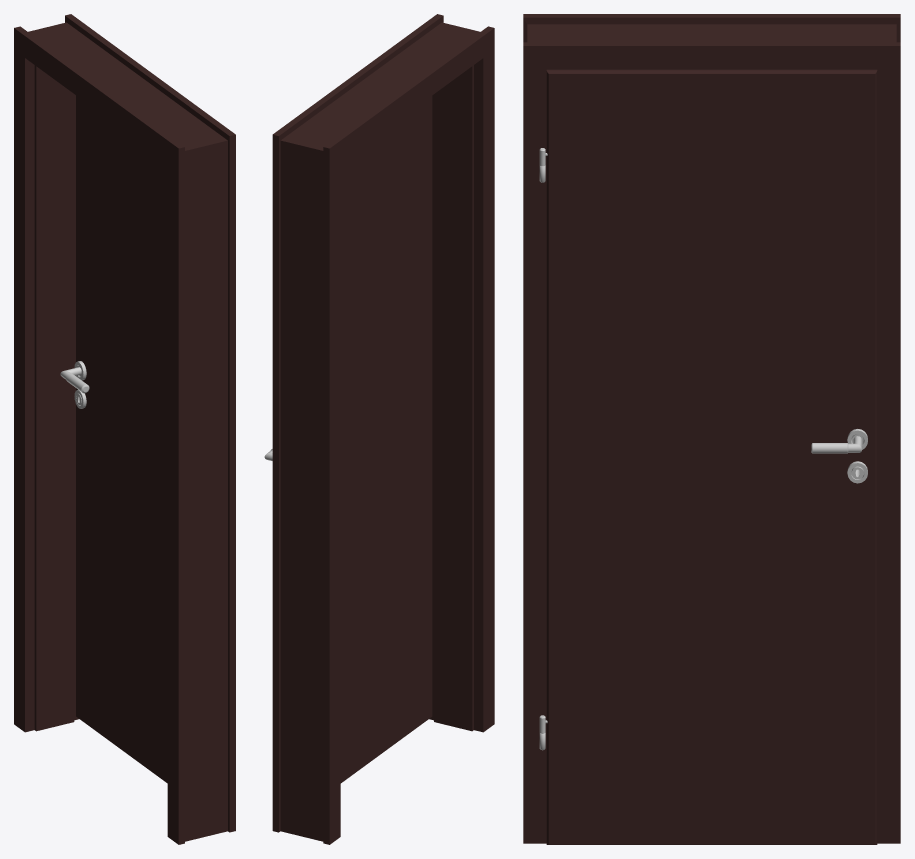
The model's file is Door1.fbx.
3 views of the same model, side by side, from view 1: azimuth 30°, elevation 25°; view 2: azimuth 150°, elevation 25°; view 3: azimuth 270°, elevation 25° (orthographic). The views are drawn at different scales.
Visible parts, largest first — view 1: Door.008, Door.009; view 2: Door.008, Door.009; view 3: Door.009, Door.008.
Part boxes in pixels (x1=…): Door.008: x1=14, y1=14, x2=235, y2=844; Door.009: x1=74, y1=95, x2=167, y2=783; Door.008: x1=272, y1=14, x2=494, y2=844; Door.009: x1=340, y1=96, x2=432, y2=783; Door.009: x1=539, y1=69, x2=877, y2=844; Door.008: x1=523, y1=14, x2=900, y2=843.
Size of the model in its own units: 26.61 by 214 by 91.8.
